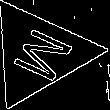M_SE: (1, 21, 76, 86)
